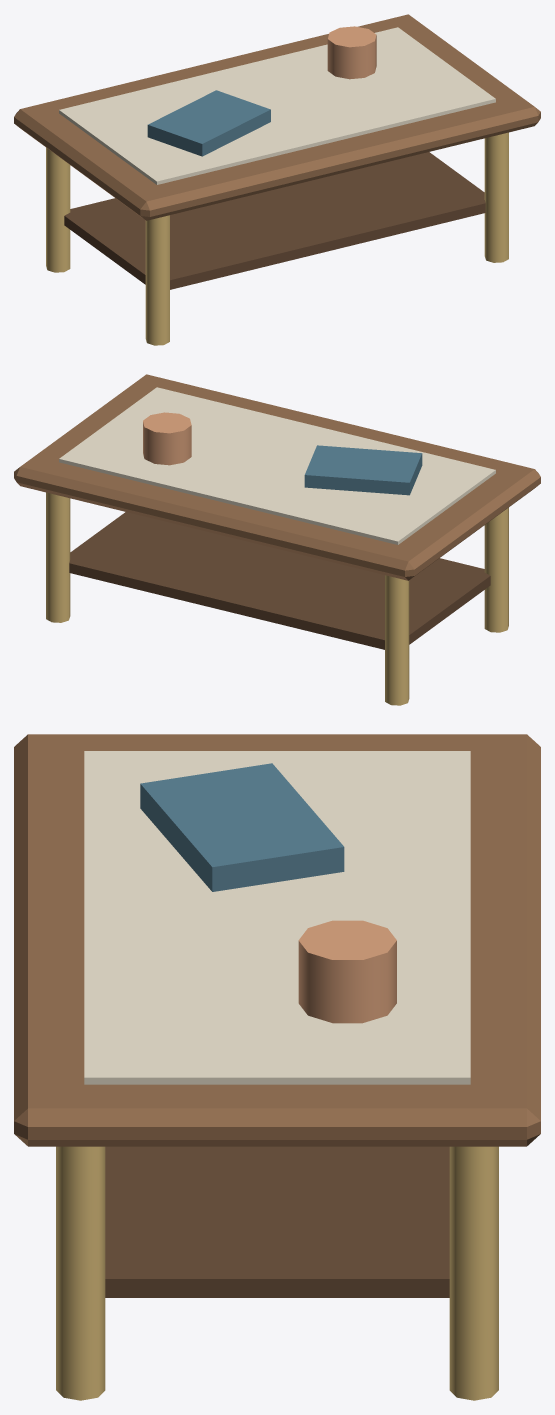
File: hm_table.glb
3 views of the same model, one above another, from view 1: azimuth 30°, elevation 25°; view 2: azimuth 150°, elevation 25°; view 3: azimuth 270°, elevation 25° (orthographic). The views are drawn at different scales.
Visible parts, largest first — view 1: hm_table; view 2: hm_table; view 3: hm_table.
Part boxes in pixels (x1,y1,x2,y2): hm_table: (14,14,540,345); hm_table: (14,374,540,705); hm_table: (14,734,540,1400).
Bounding box in the file's own units: 1.3 × 0.59 × 0.75.
